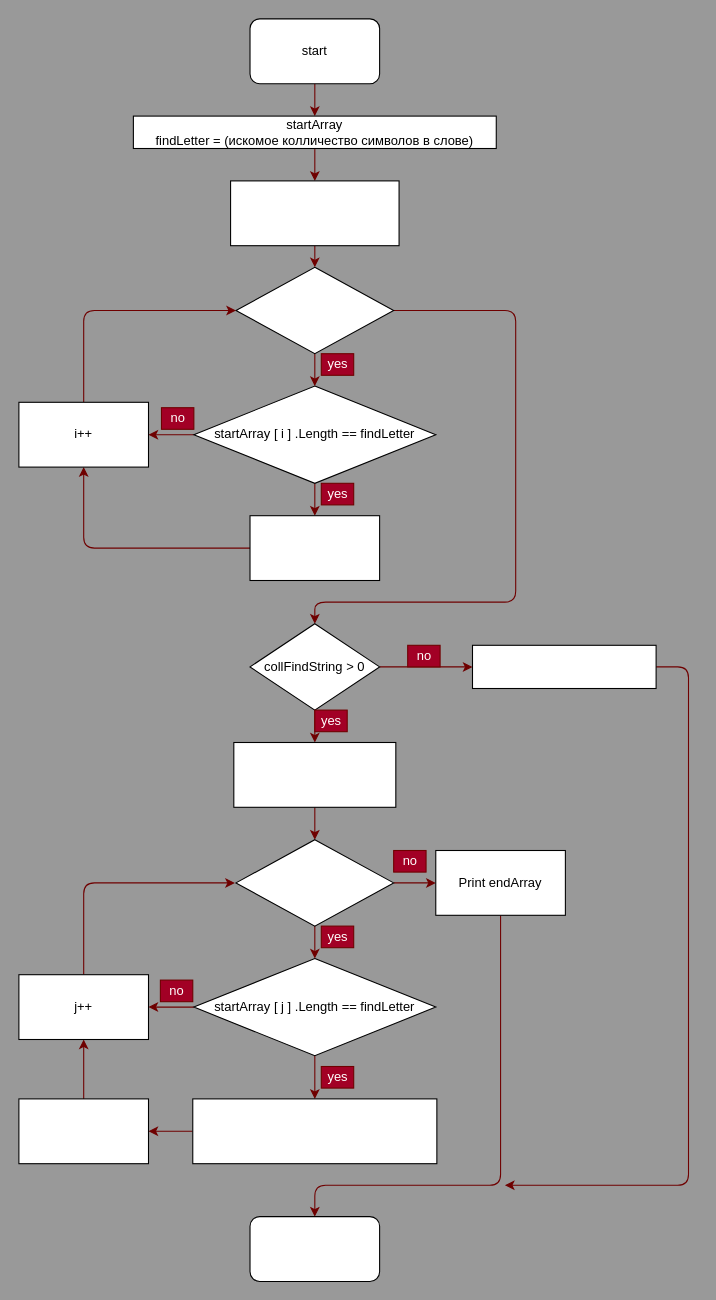
This 716x1300 diagram has some shape labels left out. Each missing label, with the centre of its shape:
collFindString = 0 i = 0: (x=314, y=213)
collFindString++: (x=314, y=547)
End: (x=314, y=1248)
endArray [endArrayIndex] = startArray [ j ]: (x=314, y=1131)
endArray[collFindString] endArrayIndex = 0 j = 0: (x=314, y=774)
endArrayIndex++: (x=83, y=1131)
i < startArray.Length: (x=314, y=310)
j < startArray.Length: (x=314, y=882)
Print "В массиве нет слов с искомой длинной символов": (x=563, y=666)
